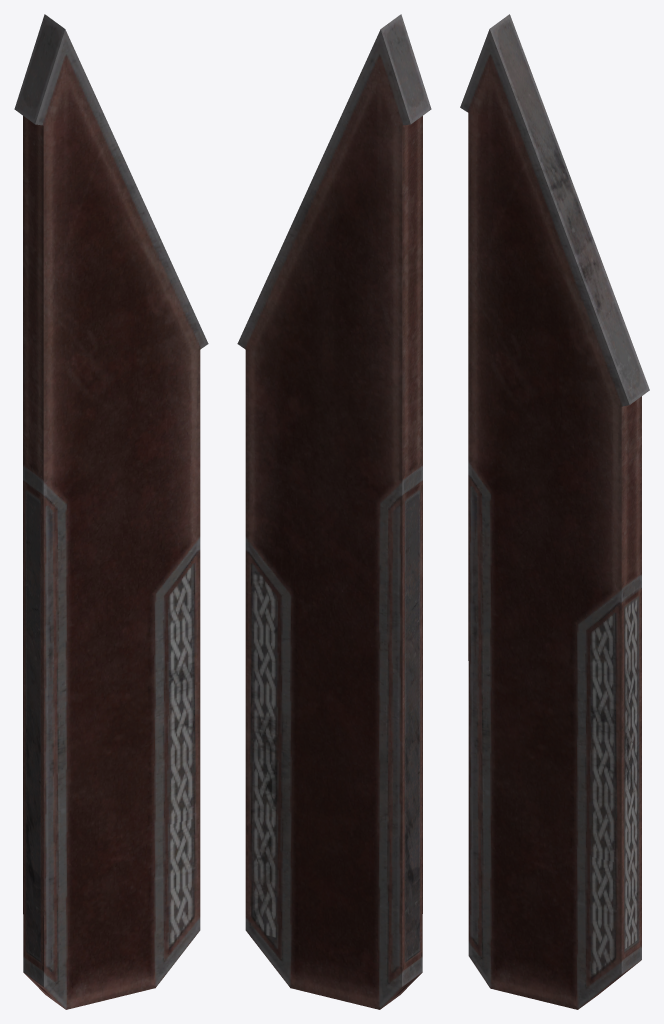
Rendered from sm_dwarf_iron_sword_scabbard_b.fbx.
The picture shows the model from 3 angles, left to right: view 1: azimuth 30°, elevation 25°; view 2: azimuth 150°, elevation 25°; view 3: azimuth 330°, elevation 25°; orthographic projection. The views are drawn at different scales.
Parts seen in each view (by area): view 1: sm_dwarf_iron_sword_scabbard_b; view 2: sm_dwarf_iron_sword_scabbard_b; view 3: sm_dwarf_iron_sword_scabbard_b.
Part boxes in pixels (left/top/right/bottom): sm_dwarf_iron_sword_scabbard_b: left=14, top=14, right=208, bottom=1009; sm_dwarf_iron_sword_scabbard_b: left=237, top=14, right=431, bottom=1009; sm_dwarf_iron_sword_scabbard_b: left=460, top=14, right=649, bottom=1009.
Bounding box in the file's own units: 0.1938 × 0.04 × 1.05.
Materials: 1 (1 with a texture image).
